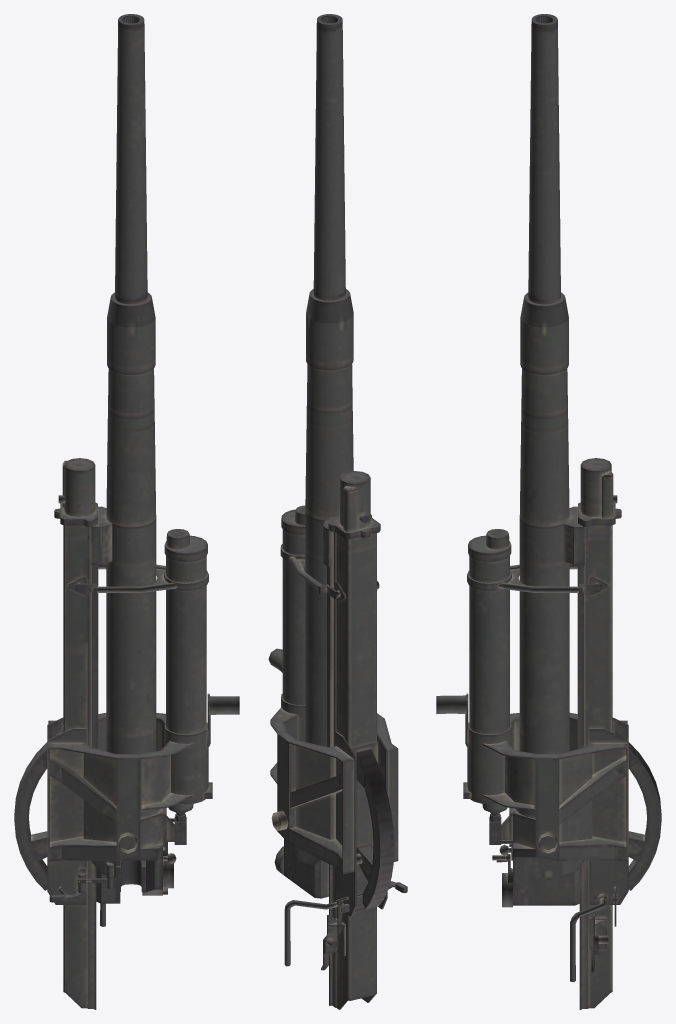
Rendered from Gun_02.glb.
The picture shows the model from 3 angles, left to right: view 1: azimuth 90°, elevation 25°; view 2: azimuth 210°, elevation 25°; view 3: azimuth 270°, elevation 25°; orthographic projection.
Parts seen in each view (by area): view 1: set_0_group_0; view 2: set_0_group_0; view 3: set_0_group_0.
Boxes of the visible parts, x1=… form: set_0_group_0: x1=14, y1=14, x2=239, y2=1009; set_0_group_0: x1=268, y1=14, x2=407, y2=1009; set_0_group_0: x1=436, y1=14, x2=661, y2=1009.
Size of the model in its own units: 0.6803 by 5.56 by 1.16.
1 material, 1 textured.
